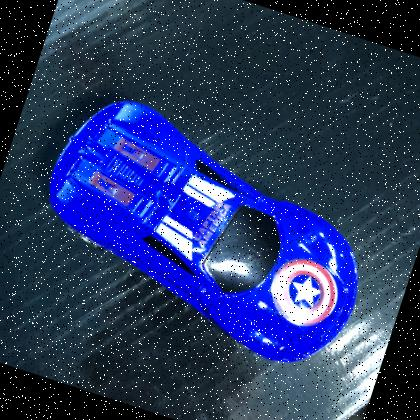Car: (8, 76, 402, 390)
